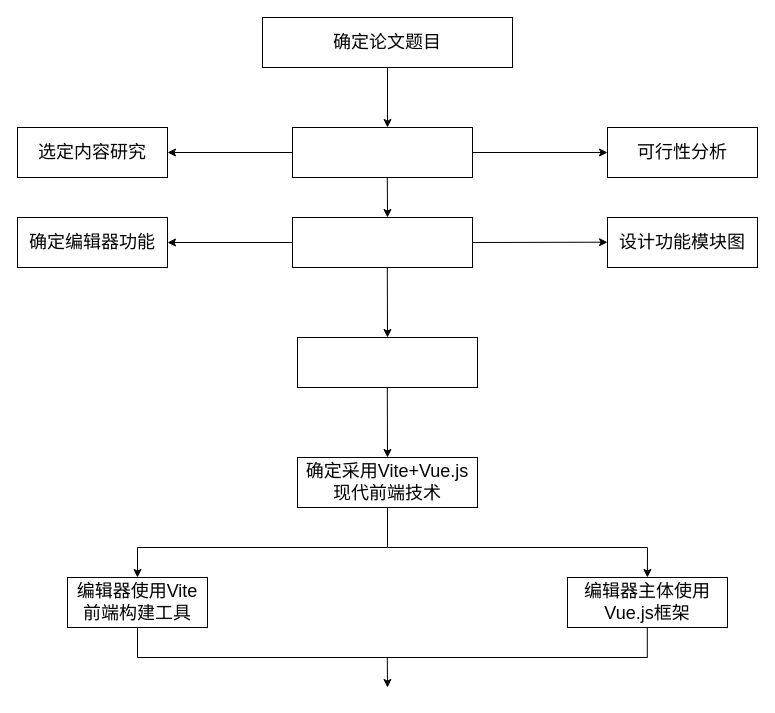
Some shapes in this 775 by 713 pixel diagram are drawn without their labels. Each missing label, with the box of its shape:
总体方案规划与设计: (292, 216, 472, 268)
查阅相关资料: (292, 126, 472, 178)
设计项目总体框架: (296, 336, 478, 388)
